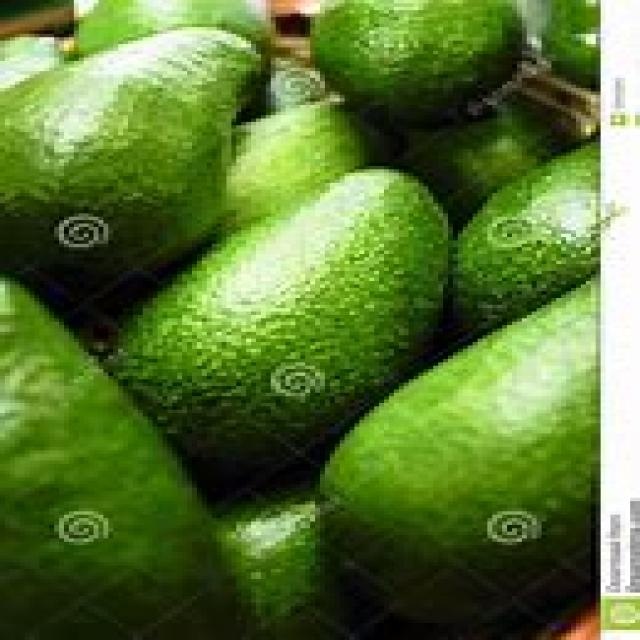Avocado: (317, 267, 600, 640), (0, 272, 256, 638), (113, 167, 427, 414), (3, 22, 259, 240), (448, 128, 602, 304), (310, 2, 522, 105)
